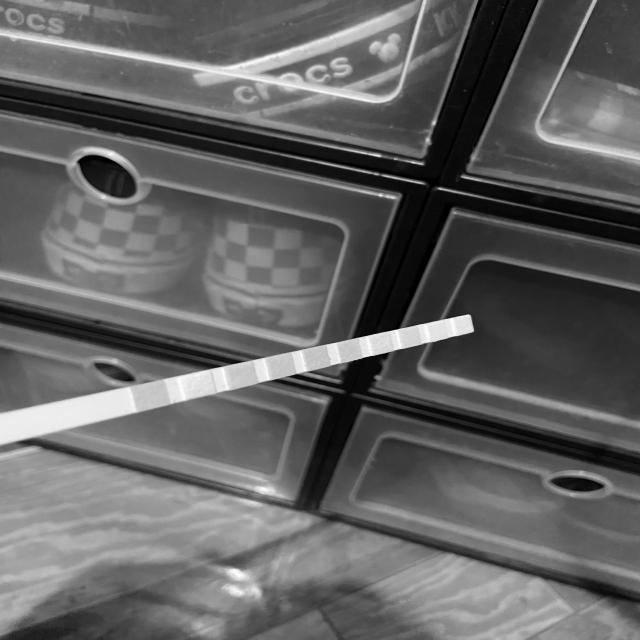Bilirubin: (185, 376, 212, 394)
Blood: (306, 349, 327, 367)
Glucose: (135, 386, 167, 405)
Ketone: (231, 366, 253, 384)
Leukocytes: (458, 317, 471, 333)
Nitrite: (430, 323, 446, 338)
Protein: (372, 335, 391, 351)
SpGravity: (269, 357, 292, 375)
Urobilinogen: (402, 328, 419, 345)
background: (0, 0, 640, 640)
pH: (340, 342, 359, 359)
strip: (0, 314, 475, 444)
